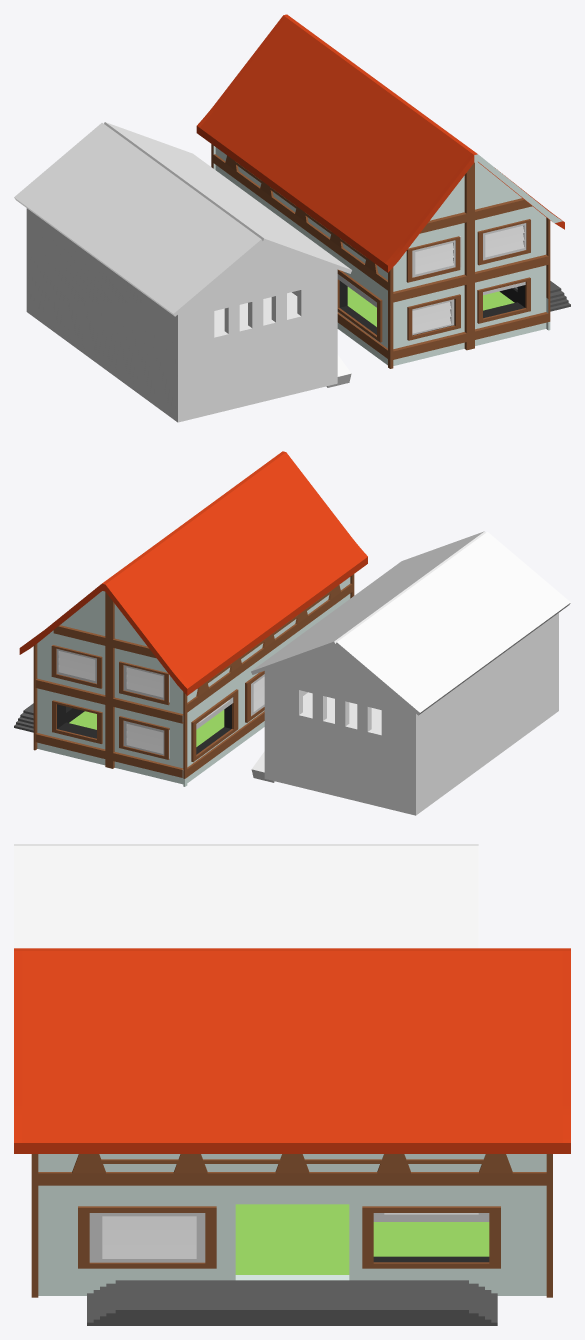
The model's file is Bighouse_nosrairs.fbx.
The picture shows the model from 3 angles, top to bottom: view 1: azimuth 30°, elevation 25°; view 2: azimuth 150°, elevation 25°; view 3: azimuth 270°, elevation 25°; orthographic projection. The views are drawn at different scales.
Parts seen in each view (by area): view 1: Cube__13_, Woods.002, Woods, Woods.004, Woods.003, Cube.008, Cube.009, Woods.006, Cube.013, Woods.007; view 2: Cube__13_, Woods.002, Woods, Woods.004, Woods.003, Woods.006, Cube.006, Cube.007, Cube.011, Woods.007, Cube.002; view 3: Woods.002, Cube__13_, Woods, Woods.005, Woods.004, Woods.007, Woods.003, Cube.003, Cube.005, Woods.006.
Part boxes in pixels (x1,y1,x2,y2): Cube__13_: [14, 122, 351, 422]; Woods.002: [196, 14, 564, 272]; Woods: [213, 146, 562, 365]; Woods.004: [211, 144, 550, 368]; Woods.003: [337, 219, 530, 342]; Cube.008: [412, 236, 461, 277]; Cube.009: [483, 220, 531, 260]; Woods.006: [339, 281, 525, 335]; Cube.013: [412, 299, 454, 335]; Woods.007: [347, 287, 514, 326]; Cube__13_: [251, 531, 570, 815]; Woods.002: [19, 451, 367, 695]; Woods: [37, 577, 350, 786]; Woods.004: [33, 574, 354, 778]; Woods.003: [51, 645, 264, 762]; Woods.006: [57, 704, 231, 754]; Cube.006: [123, 720, 169, 758]; Cube.007: [123, 665, 169, 702]; Cube.011: [56, 649, 96, 683]; Woods.007: [69, 710, 224, 746]; Cube.002: [251, 674, 264, 715]; Woods.002: [14, 948, 570, 1153]; Cube__13_: [14, 844, 478, 948]; Woods: [38, 1154, 546, 1295]; Woods.005: [87, 1280, 497, 1325]; Woods.004: [31, 1154, 552, 1297]; Woods.007: [235, 1204, 489, 1274]; Woods.003: [78, 1206, 500, 1268]; Cube.003: [89, 1213, 205, 1262]; Cube.005: [373, 1213, 489, 1221]; Woods.006: [373, 1256, 489, 1262].
Size of the model in its own units: 5816 by 2873 by 4554.
